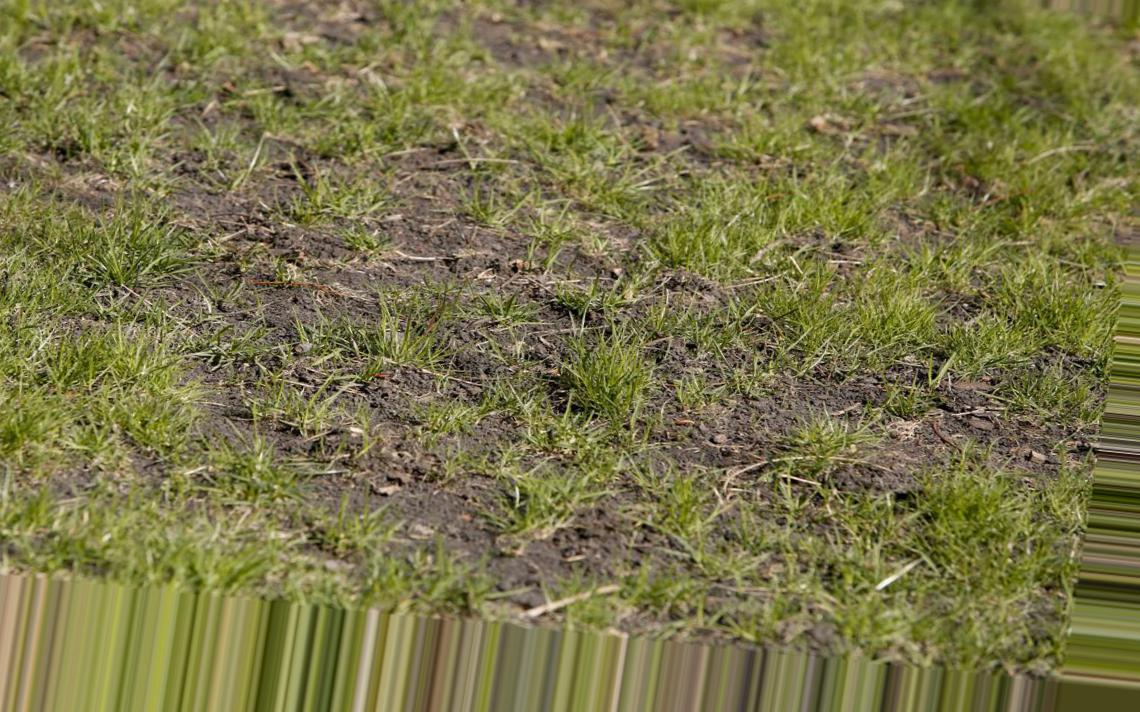patch: (281, 182, 592, 429), (607, 330, 908, 539), (399, 396, 666, 565)
